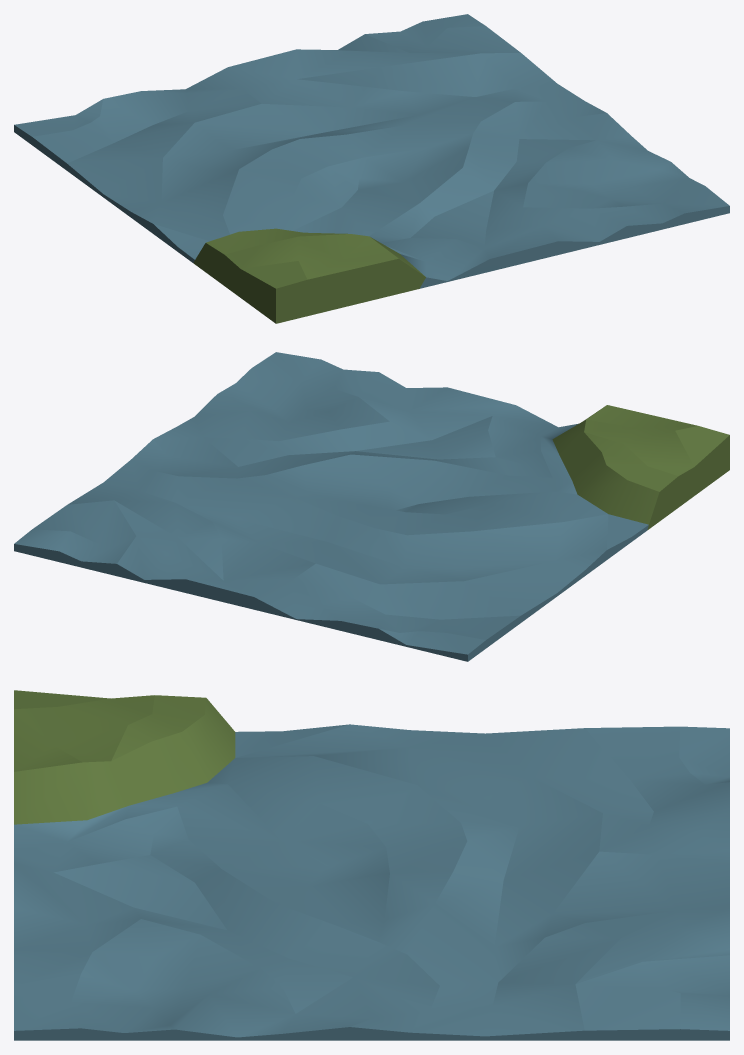
Rendered from Water_Corner_External_LB.glb.
3 renders of one model, top to bottom at view 1: azimuth 30°, elevation 25°; view 2: azimuth 150°, elevation 25°; view 3: azimuth 270°, elevation 25°, orthographic. The views are drawn at different scales.
Parts seen in each view (by area): view 1: Water_Corner_External_LB; view 2: Water_Corner_External_LB; view 3: Water_Corner_External_LB.
Boxes of the visible parts, box(x1,y1,x2,y2) form: Water_Corner_External_LB: box(14, 14, 729, 323); Water_Corner_External_LB: box(14, 352, 729, 661); Water_Corner_External_LB: box(14, 690, 729, 1040).
Bounding box in the file's own units: 1.47 × 0.1291 × 1.47.
